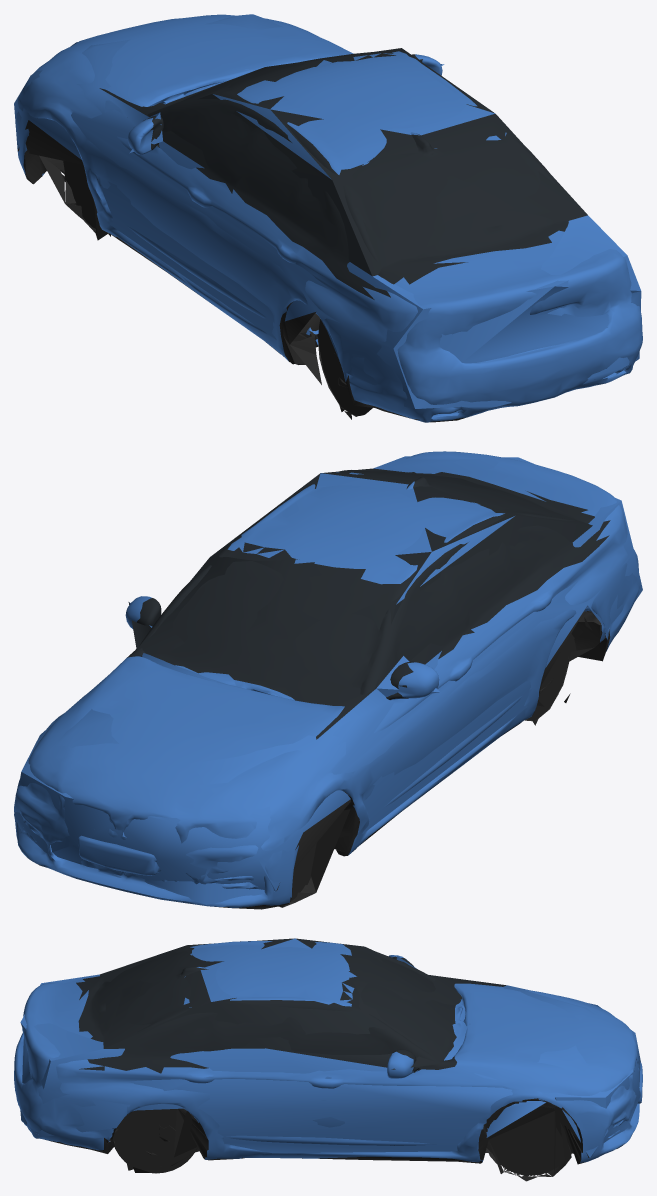
Rendered from bmw-5-series.glb.
3 views of the same model, one above another, from view 1: azimuth 30°, elevation 25°; view 2: azimuth 150°, elevation 25°; view 3: azimuth 270°, elevation 25° (orthographic). The views are drawn at different scales.
Parts seen in each view (by area): view 1: body, far; view 2: body, far; view 3: body, far.
Boxes of the visible parts, x1,y1,x2,y2 form: body: (15, 14, 642, 422); far: (14, 14, 641, 419); body: (14, 451, 639, 909); far: (14, 456, 642, 904); body: (14, 941, 642, 1181); far: (20, 938, 640, 1176).
Bounding box in the file's own units: 2.21 × 1.6 × 5.19.
